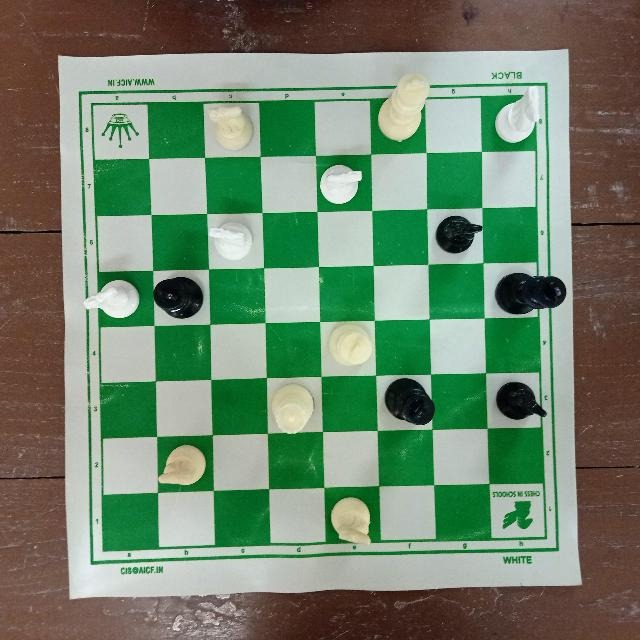black-king: (492, 267, 570, 319), (382, 373, 439, 434), (150, 271, 210, 327)
black-knight: (493, 376, 550, 424), (433, 214, 487, 260)
white-king: (375, 65, 435, 149), (319, 319, 381, 375)
white-knight: (494, 85, 550, 148), (326, 492, 379, 552), (77, 274, 142, 321), (314, 159, 371, 212), (204, 99, 257, 153), (155, 443, 211, 493), (204, 215, 256, 266)
white-queen: (266, 380, 314, 438)
